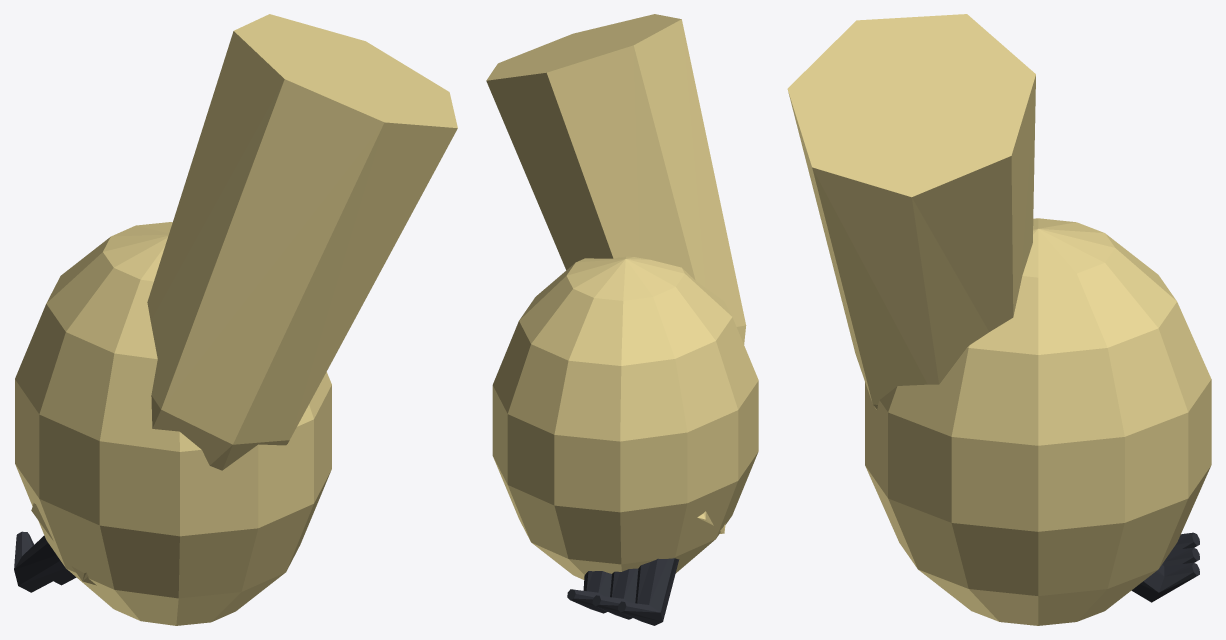
The model's file is gorehulk_c_arm_-1.obj.
3 views of the same model, side by side, from view 1: azimuth 30°, elevation 25°; view 2: azimuth 150°, elevation 25°; view 3: azimuth 270°, elevation 25° (orthographic). The views are drawn at different scales.
Parts seen in each view (by area): view 1: gorehulk_c_arm_-1; view 2: gorehulk_c_arm_-1; view 3: gorehulk_c_arm_-1.
Boxes of the visible parts, x1,y1,x2,y2 form: gorehulk_c_arm_-1: (14, 14, 457, 625); gorehulk_c_arm_-1: (486, 14, 758, 625); gorehulk_c_arm_-1: (787, 14, 1211, 625).
Bounding box in the file's own units: 0.5193 × 0.8576 × 0.5367.
